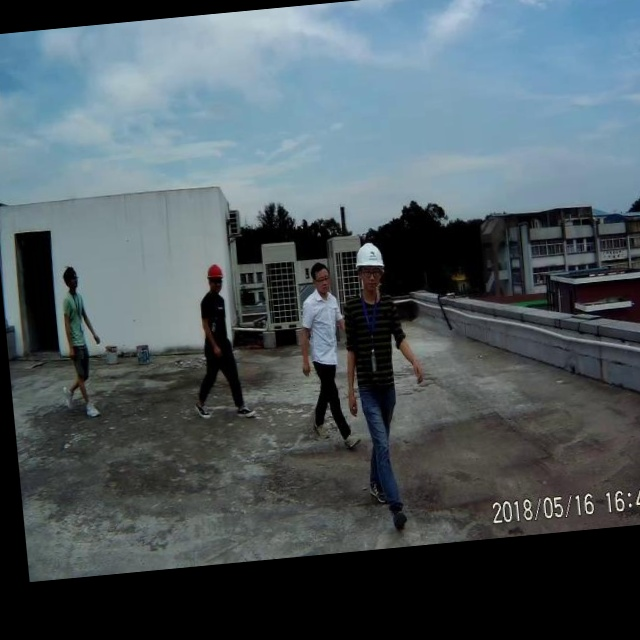Con_Casco: (352, 241, 388, 294)
Sin_Casco_Mascarrilla: (311, 259, 332, 295)
